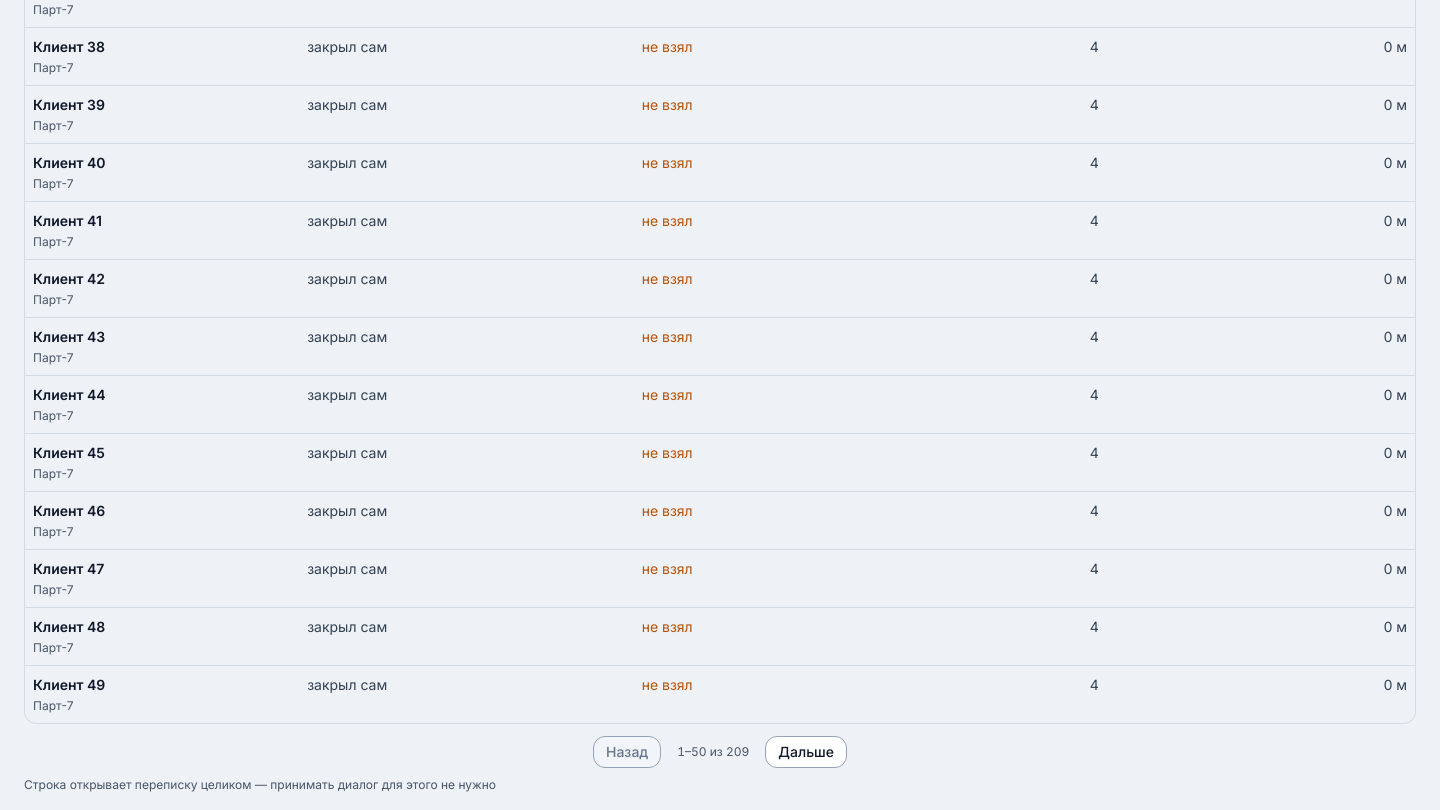
Test: Диалоги бота — листание › говорит «из N» и листает дальше
(page scrolled)
Expected: the text "1–50 из 209" is shown, [677,743,749,761]
Expected: the button "Назад" is disabled, [593,736,661,768]
Click the button "Дальше" at coordinates (806, 752), box [765,736,847,768]
(page scrolled)
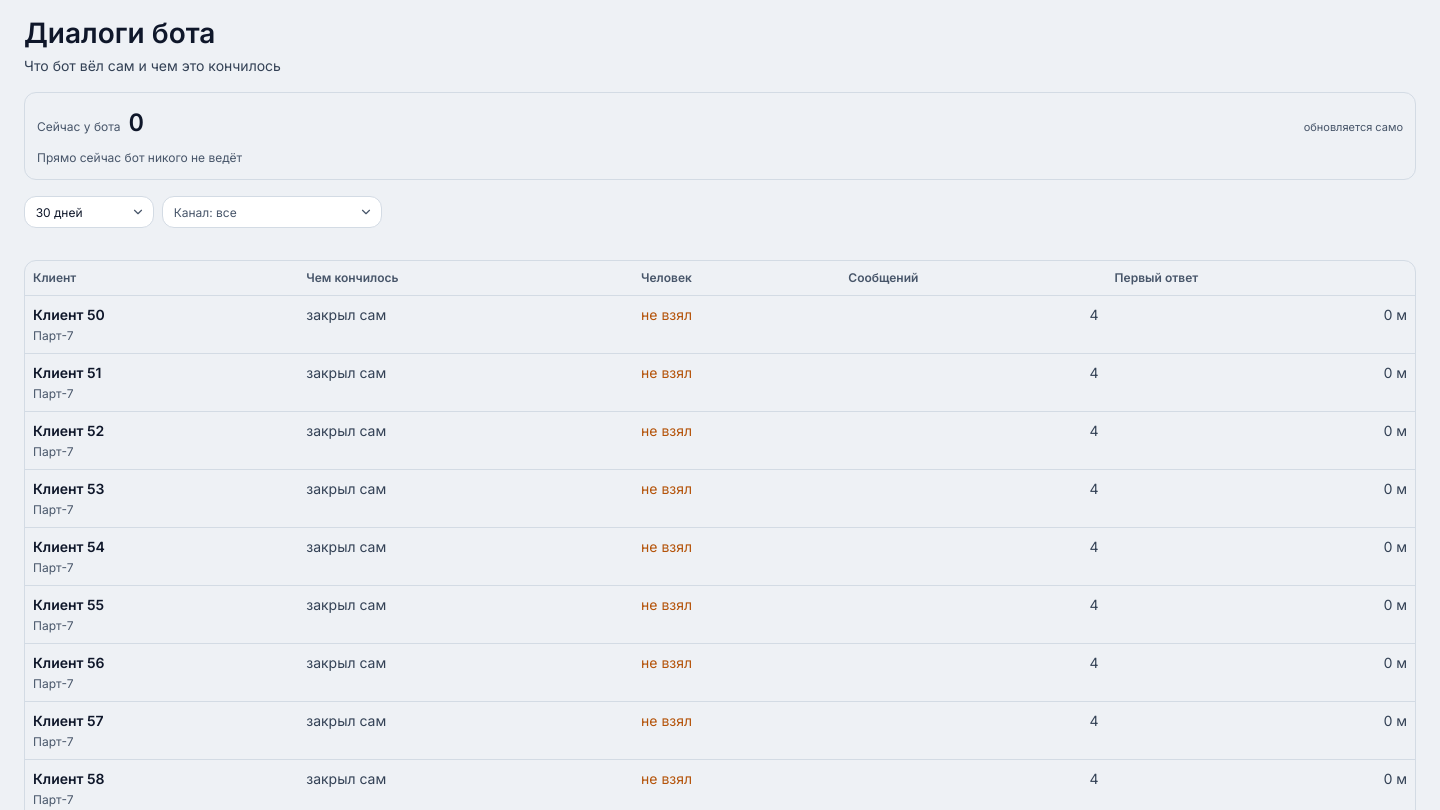
Expected: the text "Клиент 50" is shown, [33,306,105,323]
